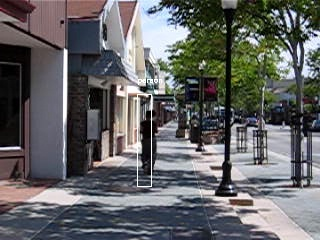person: (140, 110, 161, 176), (139, 110, 160, 176), (141, 110, 162, 176), (140, 109, 161, 175), (140, 111, 161, 177)
target_negative: (74, 44, 302, 182), (187, 175, 278, 214), (272, 25, 308, 51), (166, 53, 290, 60), (6, 206, 32, 230), (268, 186, 307, 199)
